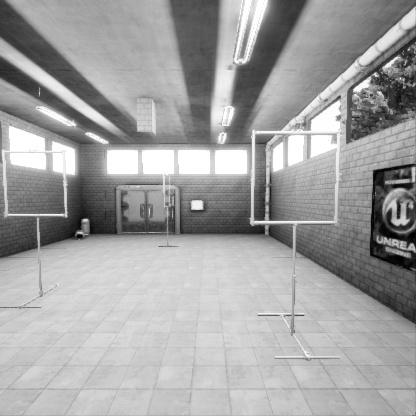gate: (254, 195, 350, 289), (10, 202, 76, 266), (163, 209, 170, 244)
